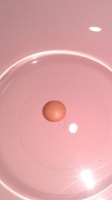Dolorex: (40, 100, 67, 124)
